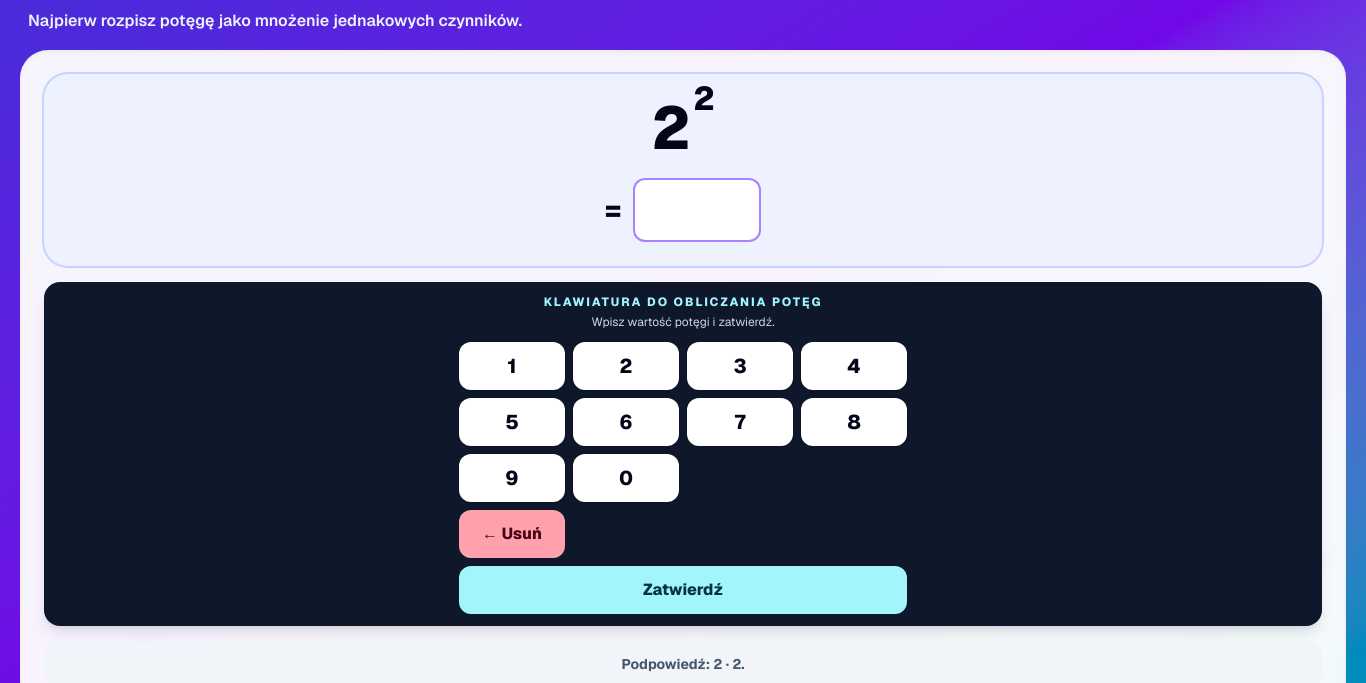
Test: Grade4PowersLessonLab › blokuje klawiaturę urządzenia i oblicza prostą potęgę
Click the button "4" at coordinates (854, 366), box [801,342,907,390]
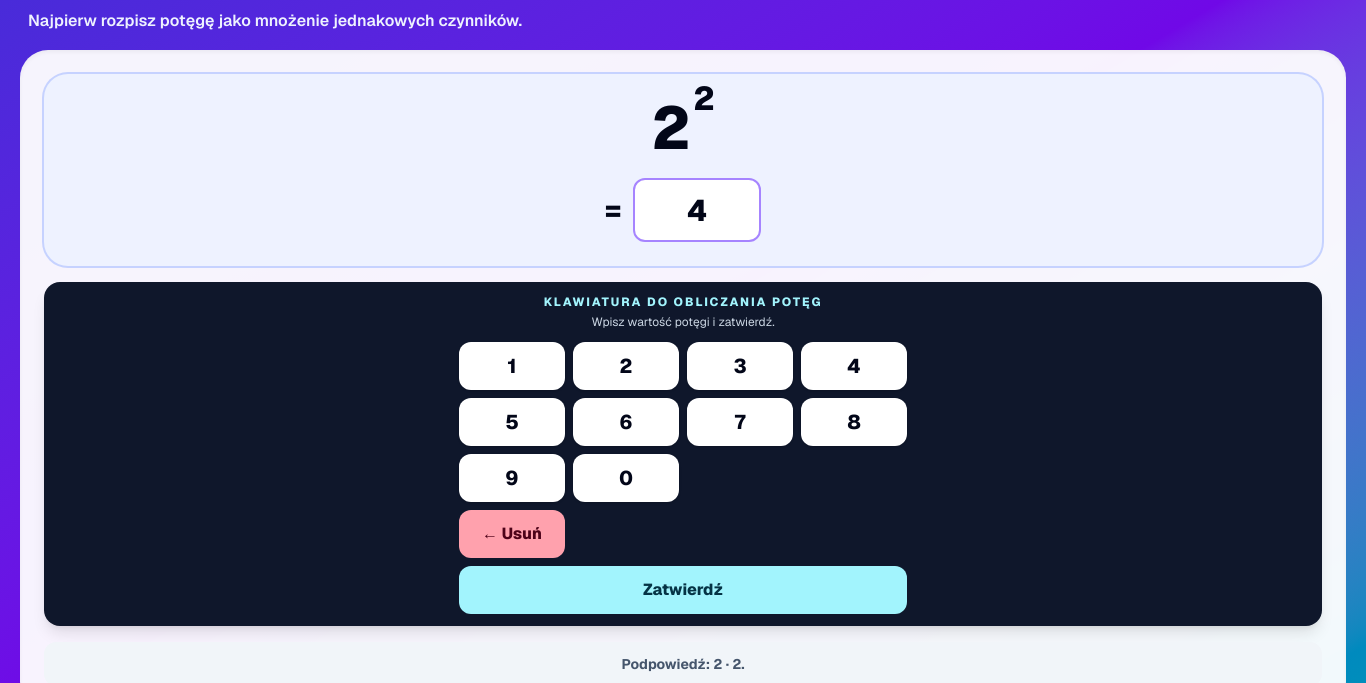
Click the button "Zatwierdź" at coordinates (683, 590), box [459,566,907,614]
(page scrolled)
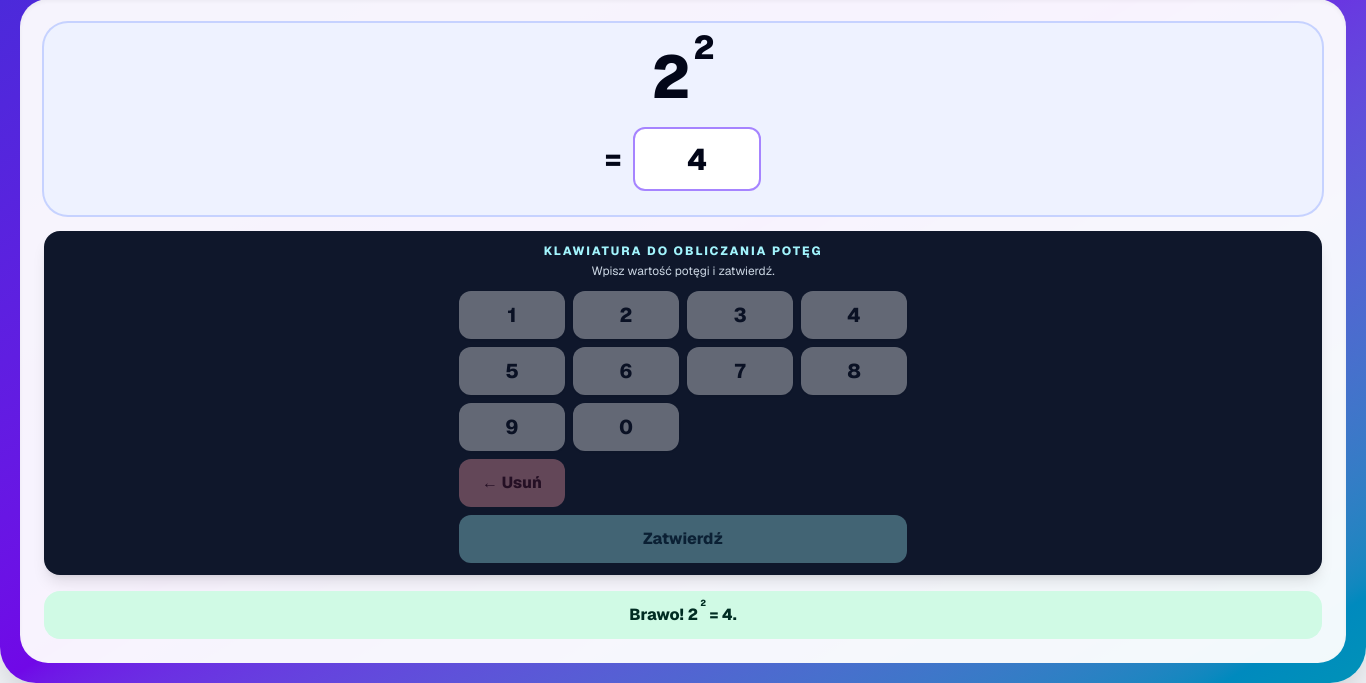
Expected: the message shows "Brawo", [629,604,688,625]
